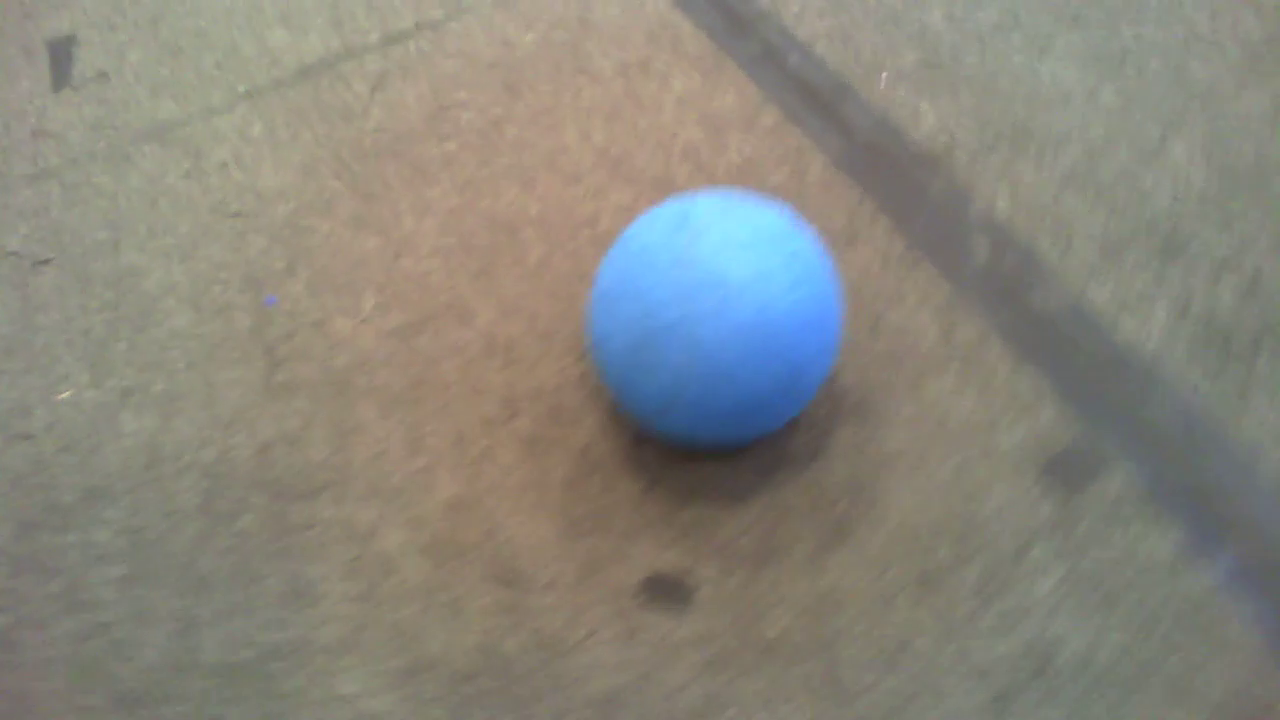blue_cargo: (587, 180, 845, 443)
